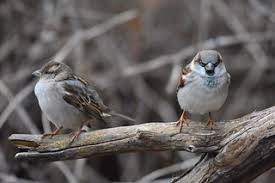home_sparrow: (21, 62, 114, 145), (163, 49, 235, 140)
